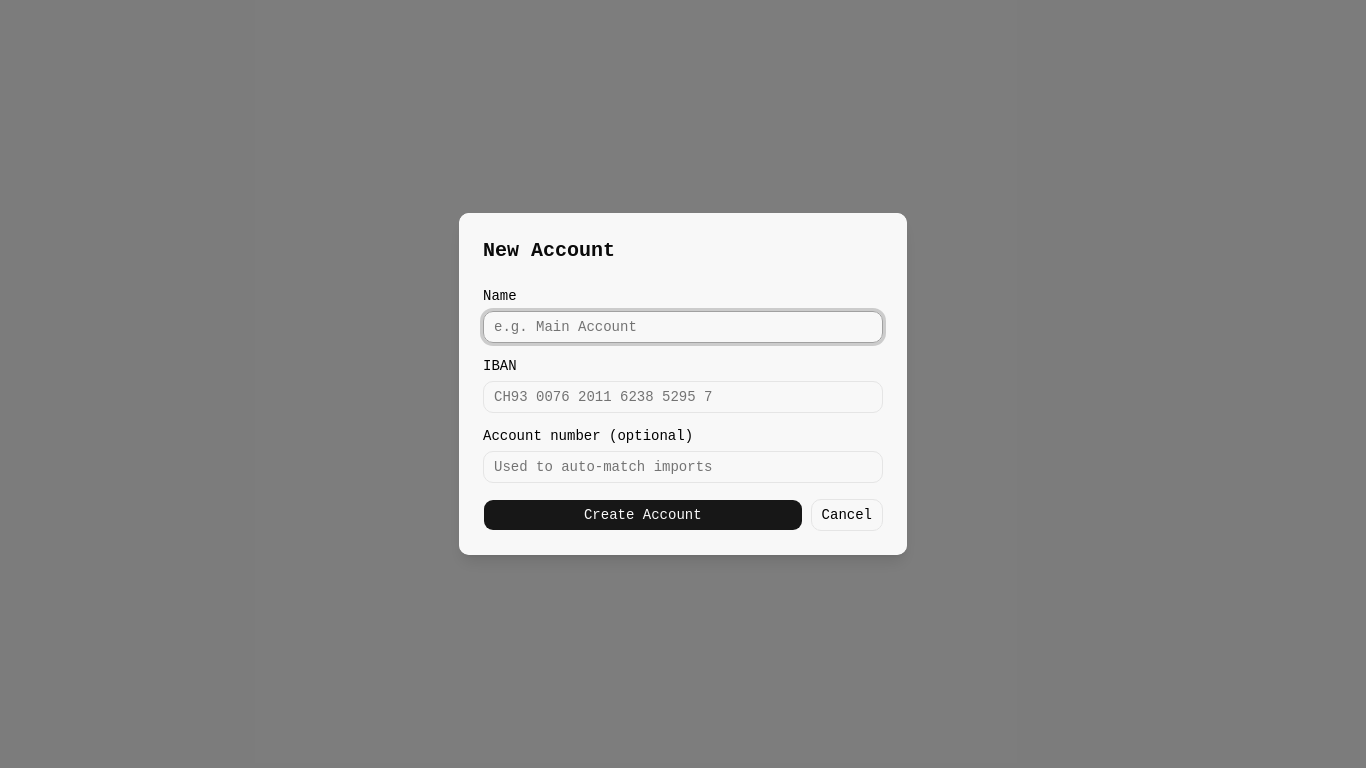
Test: AccountFormDialog › requires an IBAN when the name is filled
This screenshot has width=1366, height=768.
Type "Main" into the field labelled "Name" at [683, 327], box [483,311,883,343]
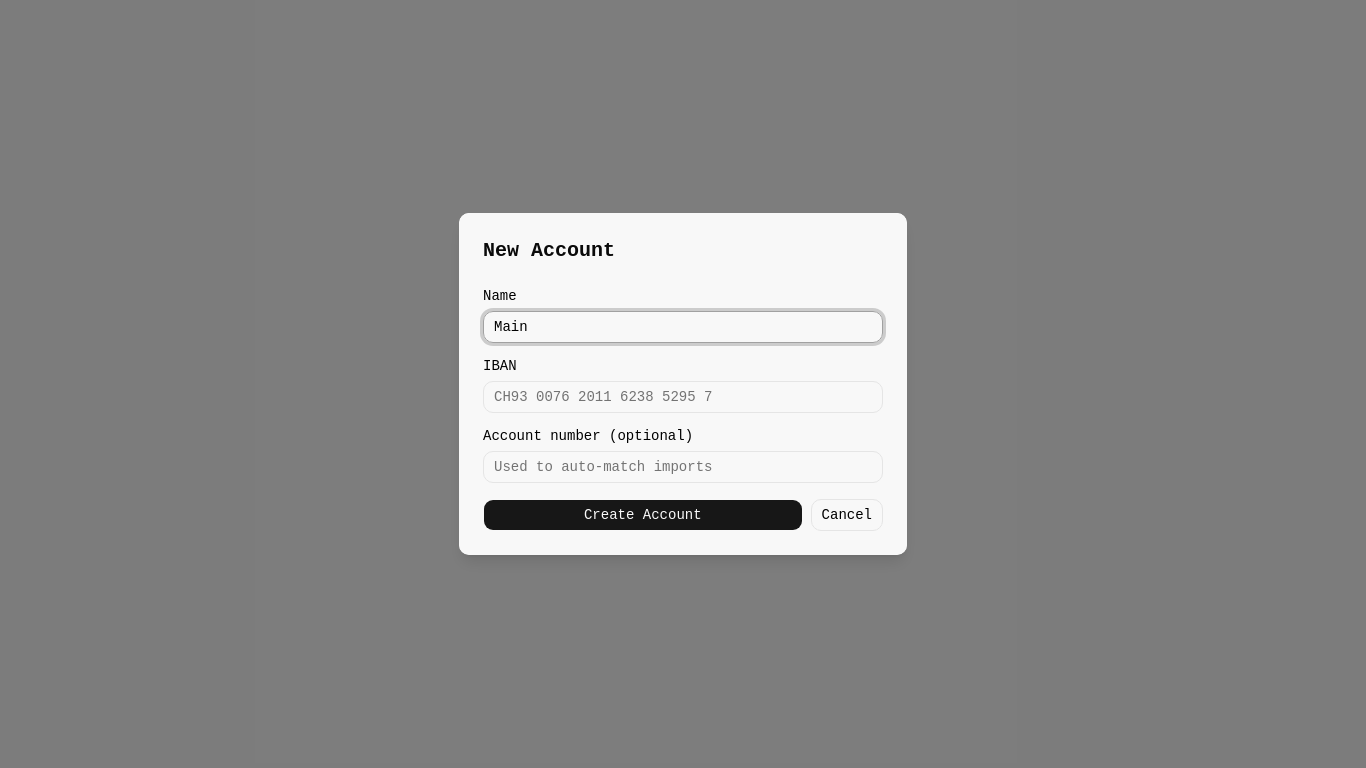
Click the button "Create Account" at [643, 515], box [483,499,803,531]
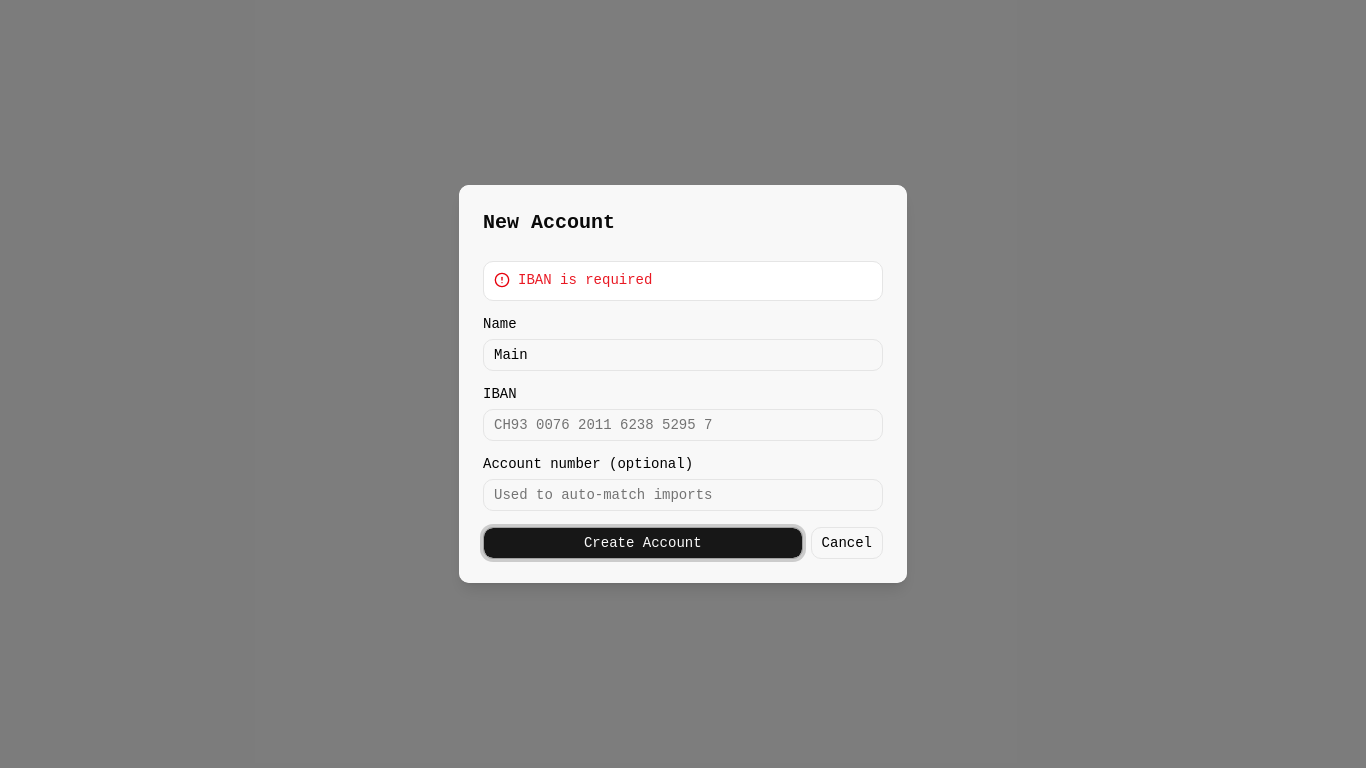
Now the text "IBAN is required" is shown, box [518,272,652,288]
